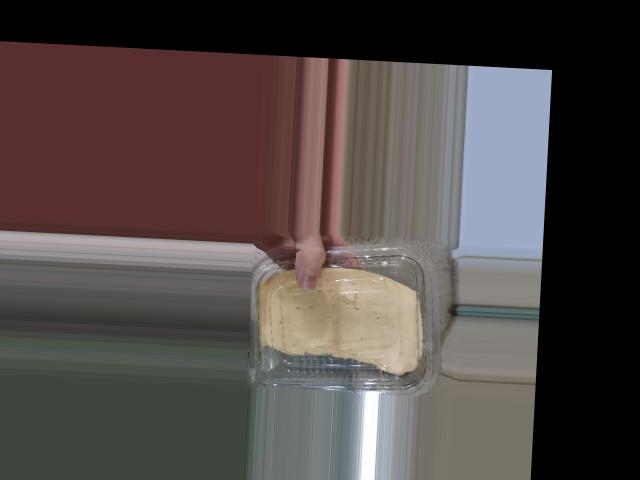cheese: (244, 254, 445, 397)
